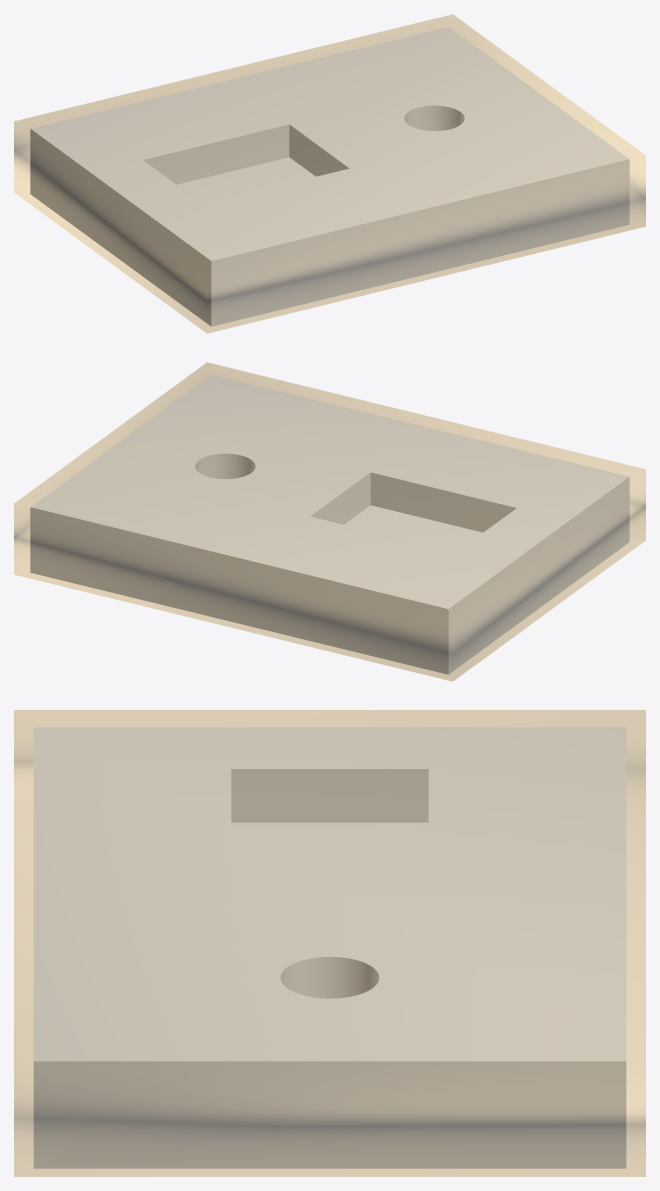
Rendered from plate.fix.result.glb.
The picture shows the model from 3 angles, top to bottom: view 1: azimuth 30°, elevation 25°; view 2: azimuth 150°, elevation 25°; view 3: azimuth 270°, elevation 25°; orthographic projection. The views are drawn at different scales.
Visible parts, largest first — view 1: stock, part; view 2: stock, part; view 3: stock, part.
Boxes of the visible parts, x1=… form: stock: x1=14, y1=14, x2=645, y2=333; part: x1=30, y1=27, x2=629, y2=326; stock: x1=14, y1=362, x2=645, y2=681; part: x1=30, y1=375, x2=629, y2=674; stock: x1=14, y1=710, x2=645, y2=1176; part: x1=33, y1=727, x2=626, y2=1168.
Bounding box in the file's own units: 0.042 × 0.0065 × 0.032.
